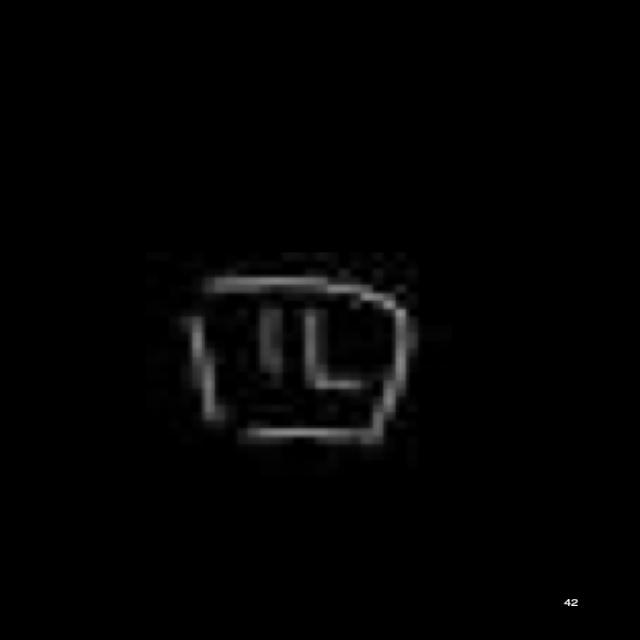4 -four-: (151, 259, 434, 456)
